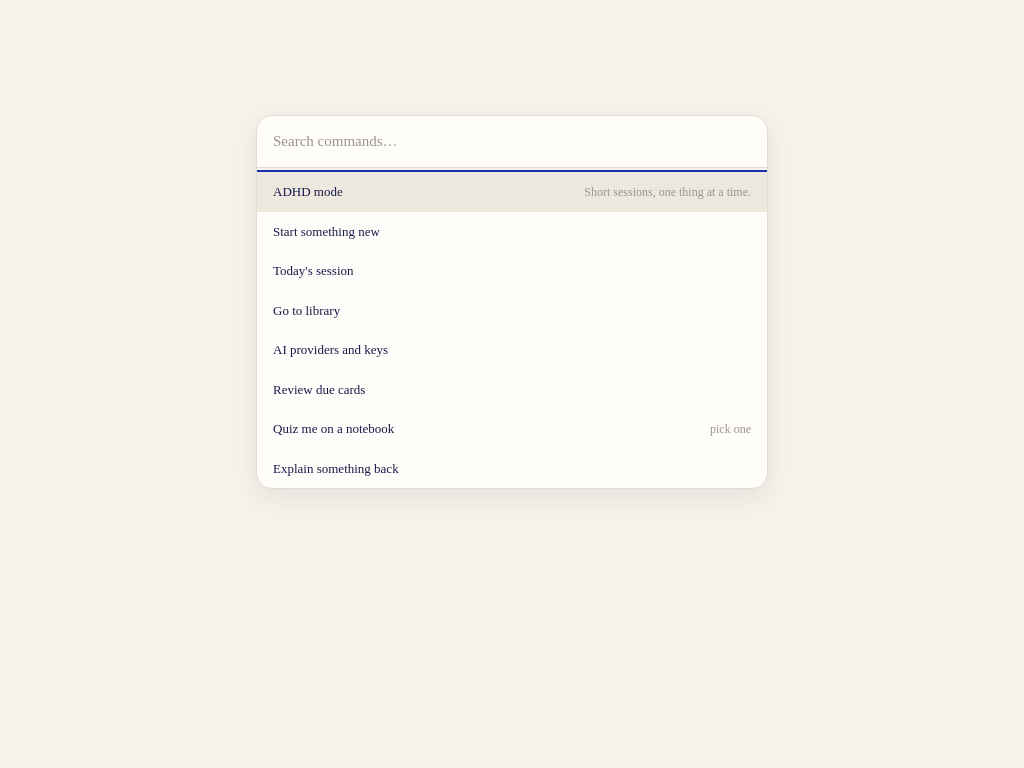
Scenario: CommandPalette › shows a no-match message rather than an empty list
Type "zzz-nothing-matches-this" into the field at point(512, 142), box [257,116,767,168]
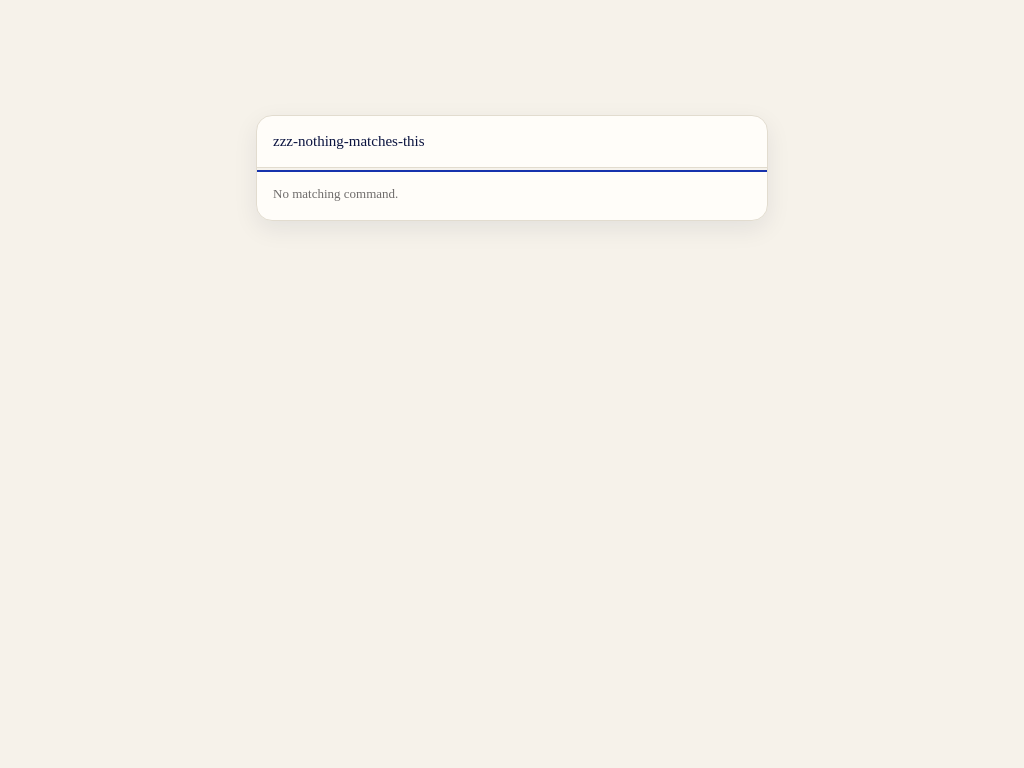
Result: no buttons are shown
Result: the list item "No matching command." is shown at [273,186,398,201]
